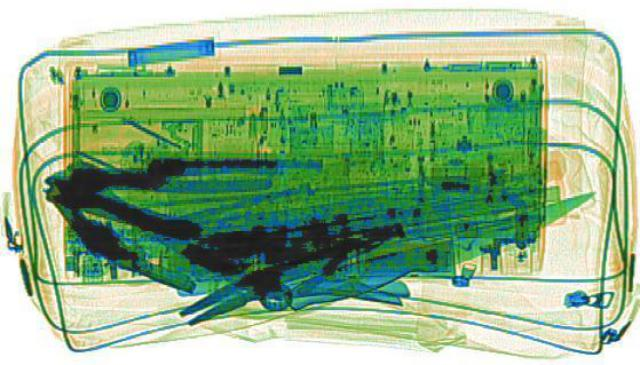Knife: (270, 180, 622, 319)
